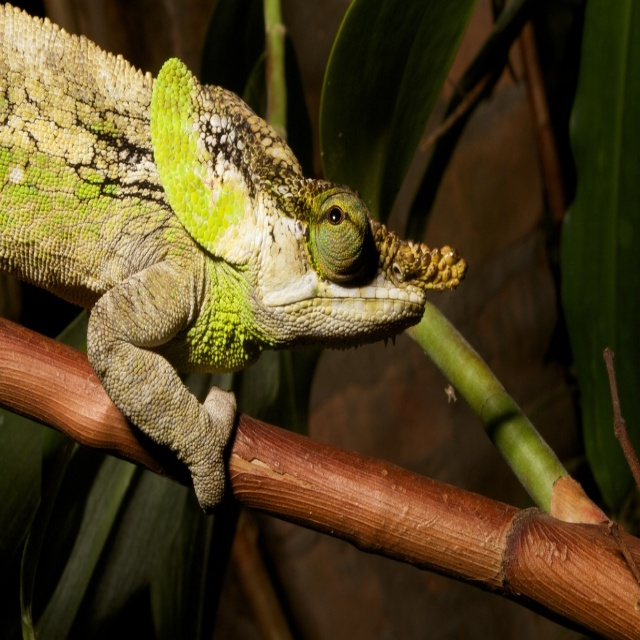Lizard: (0, 3, 466, 518)
